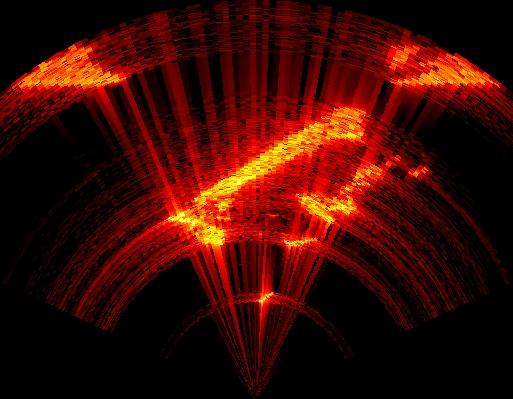shipwreck: (169, 108, 367, 243), (296, 157, 399, 225), (16, 44, 124, 90), (393, 53, 499, 85), (390, 44, 419, 69), (285, 239, 318, 246), (410, 166, 427, 177)
